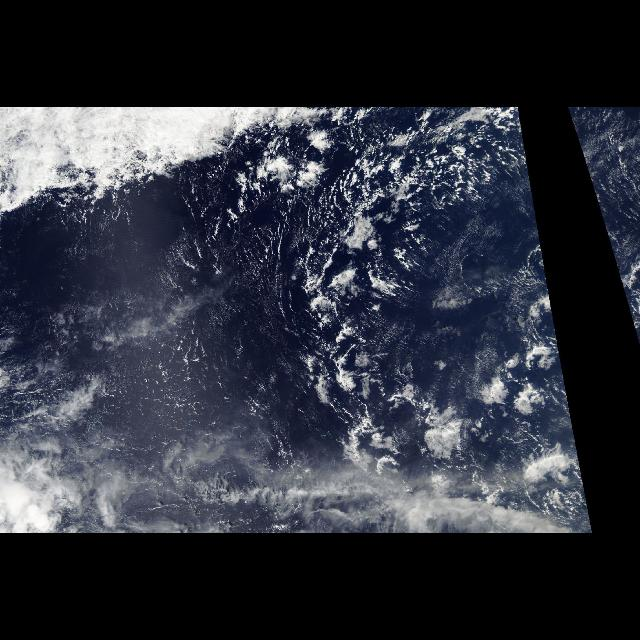Sugar: (12, 237, 298, 468), (436, 111, 558, 335), (566, 111, 636, 335)
